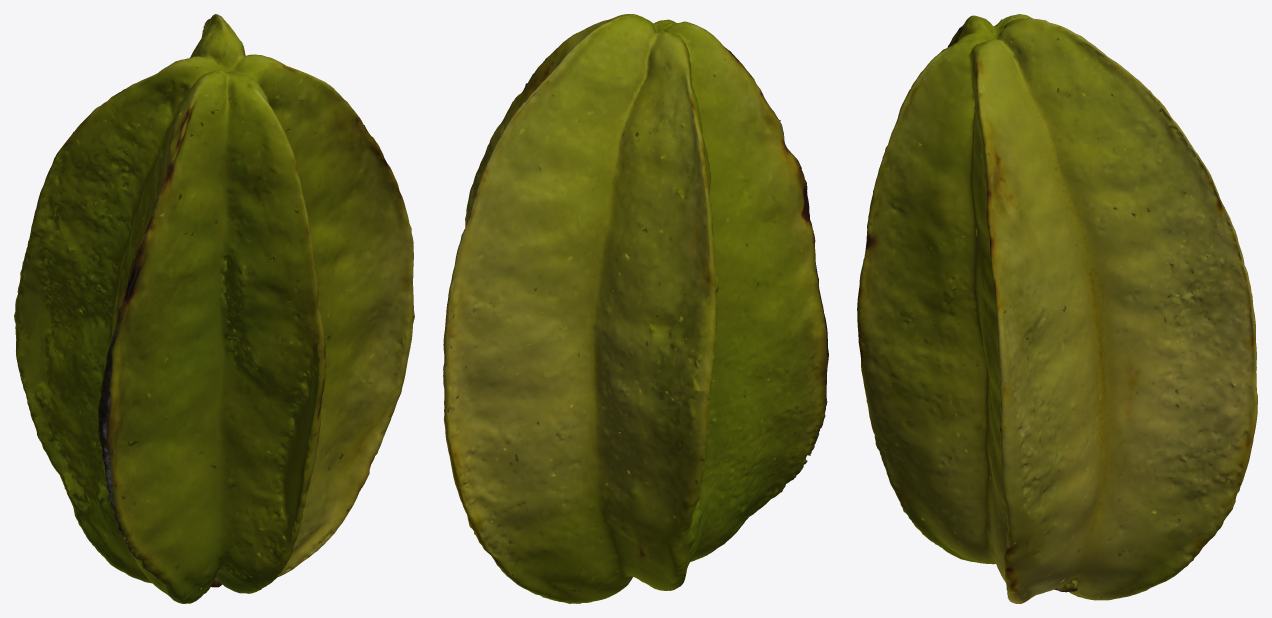
Rendered from karambola.fbx.
3 renders of one model, left to right at view 1: azimuth 30°, elevation 25°; view 2: azimuth 150°, elevation 25°; view 3: azimuth 270°, elevation 25°, orthographic. The views are drawn at different scales.
Visible parts, largest first — view 1: Karambola_100k; view 2: Karambola_100k; view 3: Karambola_100k.
Part boxes in pixels (left/top/right/bottom): Karambola_100k: left=14, top=14, right=414, bottom=603; Karambola_100k: left=443, top=14, right=828, bottom=603; Karambola_100k: left=857, top=14, right=1257, bottom=603.
Size of the model in its own units: 129 by 206 by 130.
